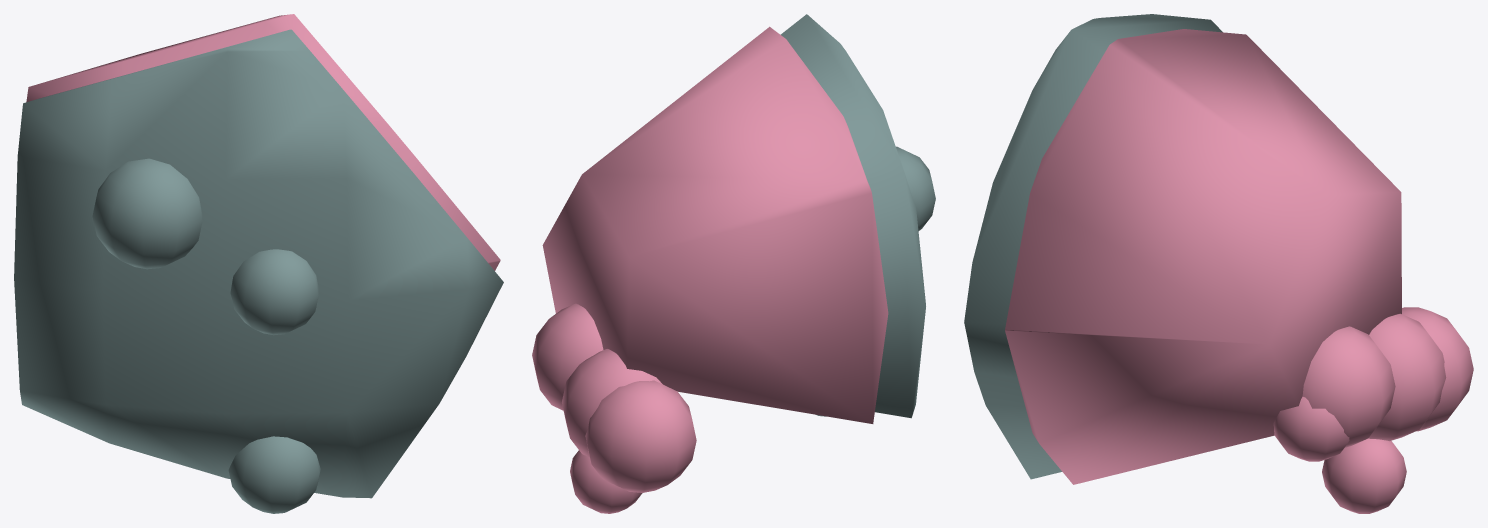
The model's file is chunk24.glb.
3 views of the same model, side by side, from view 1: azimuth 30°, elevation 25°; view 2: azimuth 150°, elevation 25°; view 3: azimuth 270°, elevation 25° (orthographic). The views are drawn at different scales.
Parts seen in each view (by area): view 1: skin, flesh; view 2: flesh, skin; view 3: flesh, skin.
Part boxes in pixels (x1=…): skin: x1=14, y1=29, x2=503, y2=513; flesh: x1=26, y1=14, x2=500, y2=270; flesh: x1=532, y1=26, x2=888, y2=513; skin: x1=780, y1=14, x2=935, y2=418; flesh: x1=1005, y1=29, x2=1473, y2=513; skin: x1=964, y1=14, x2=1222, y2=479.
Size of the model in its own units: 0.6887 by 0.7784 by 0.8038.
